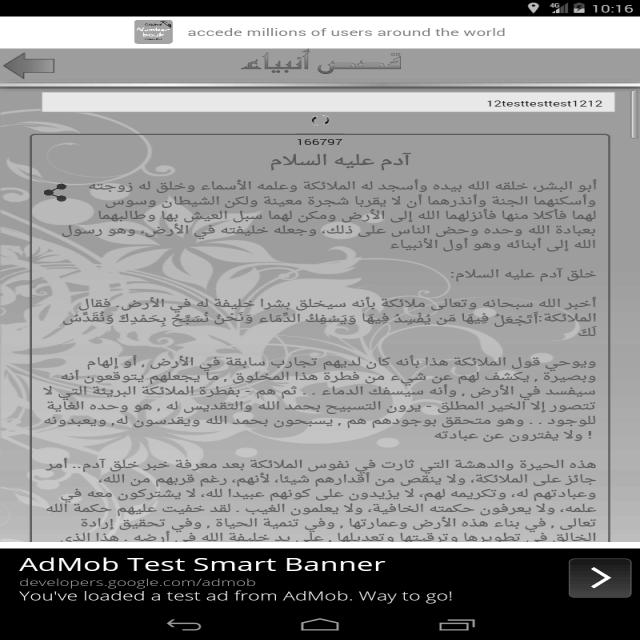ImageButton: (2, 51, 66, 81)
ImageView: (133, 17, 172, 44)
TextView: (37, 346, 608, 446), (36, 455, 600, 540), (8, 551, 465, 608), (182, 22, 510, 42), (231, 46, 414, 76), (250, 148, 426, 172), (478, 92, 616, 113)
